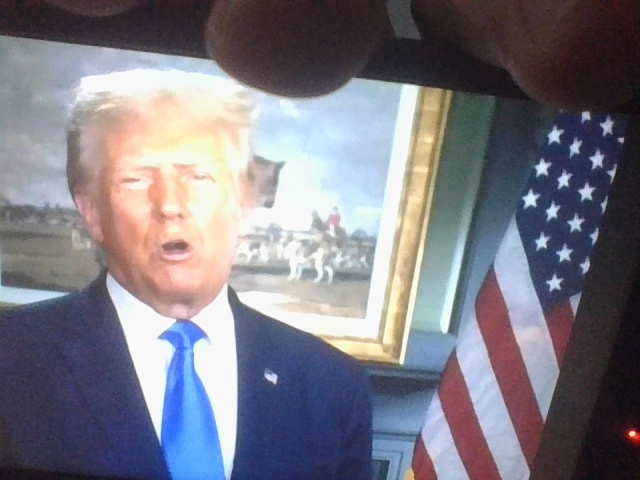fake: (89, 67, 257, 305)
